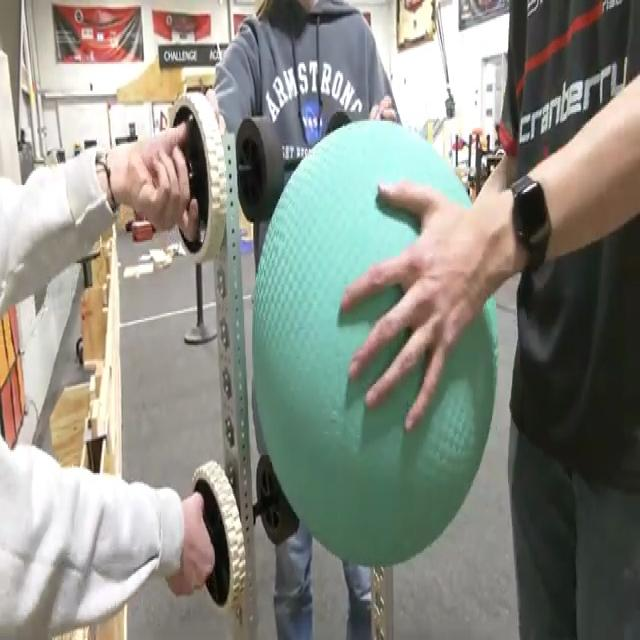Algae: (250, 116, 499, 567)
